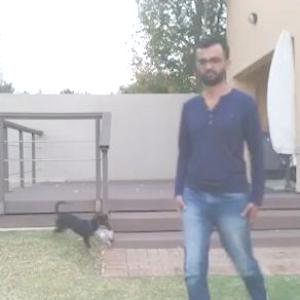follow: (155, 34, 258, 299)
